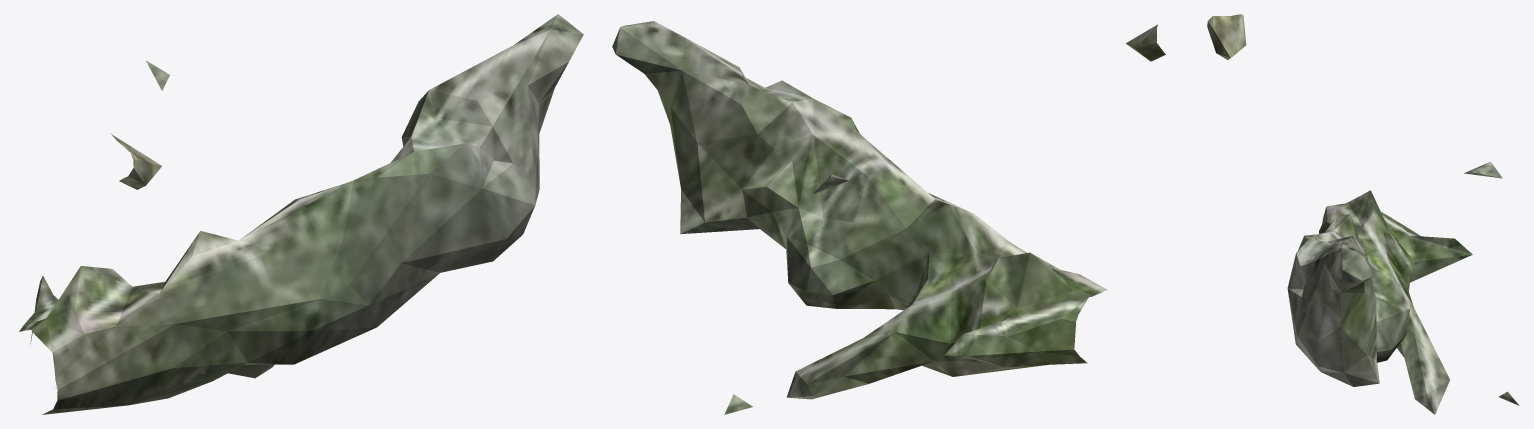
The picture shows the model from 3 angles, left to right: view 1: azimuth 30°, elevation 25°; view 2: azimuth 150°, elevation 25°; view 3: azimuth 270°, elevation 25°; orthographic projection. The views are drawn at different scales.
Bounding box in the file's own units: 3.14 × 2.23 × 2.13.
Materials: 1 (1 with a texture image).
